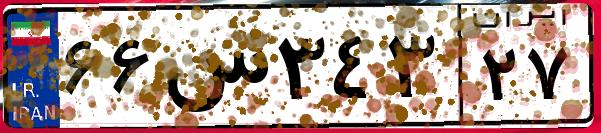2: (475, 38, 525, 113)
3: (270, 28, 330, 110), (385, 28, 445, 110)
4: (330, 28, 385, 110)
6: (57, 26, 110, 100), (110, 28, 158, 98)
7: (525, 38, 570, 115)
س: (158, 20, 270, 120)
